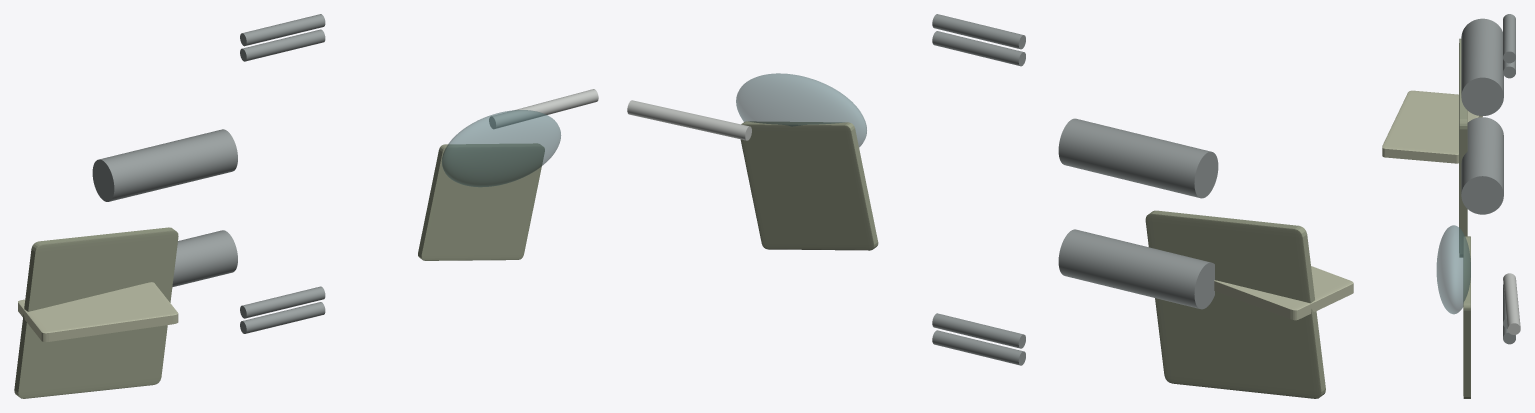
Rendered from v-u25-vanguard-multirole-aircraft-lod2.glb.
3 renders of one model, left to right at view 1: azimuth 30°, elevation 25°; view 2: azimuth 150°, elevation 25°; view 3: azimuth 270°, elevation 25°, orthographic. The views are drawn at different scales.
Parts seen in each view (by area): view 1: combat_tailplane_-1, canard_-1, combat_canopy, combat_engine_1, combat_fin_-1, combat_engine_0, combat_gun_barrel_0, combat_-1_tube_2, combat_1_tube_1, combat_1_tube_2, combat_-1_tube_1; view 2: combat_tailplane_-1, canard_-1, combat_engine_1, combat_engine_0, combat_canopy, combat_fin_-1, combat_gun_barrel_0, combat_-1_tube_1, combat_-1_tube_2, combat_1_tube_1, combat_1_tube_2; view 3: combat_fin_-1, combat_engine_1, combat_engine_0, combat_canopy, canard_-1, combat_tailplane_-1, combat_gun_barrel_0, combat_1_tube_2, combat_1_tube_1, combat_-1_tube_1.
Part boxes in pixels (x1,y1,x2,y2): combat_tailplane_-1: (14,227,178,398); canard_-1: (418,143,544,260); combat_canopy: (442,110,560,187); combat_engine_1: (92,129,237,201); combat_fin_-1: (18,282,178,342); combat_engine_0: (172,230,237,287); combat_gun_barrel_0: (489,89,598,128); combat_-1_tube_2: (240,286,325,318); combat_1_tube_1: (240,29,325,61); combat_1_tube_2: (240,14,325,46); combat_-1_tube_1: (240,302,325,333); combat_tailplane_-1: (1145,210,1325,398); canard_-1: (740,121,878,250); combat_engine_1: (1058,118,1218,198); combat_engine_0: (1058,229,1214,309); combat_canopy: (736,73,866,147); combat_fin_-1: (1214,266,1353,320); combat_gun_barrel_0: (627,100,751,140); combat_-1_tube_1: (932,330,1025,365); combat_-1_tube_2: (932,313,1025,348); combat_1_tube_1: (932,31,1025,66); combat_1_tube_2: (932,14,1025,49); combat_fin_-1: (1382,90,1482,163); combat_engine_1: (1461,18,1503,116); combat_engine_0: (1461,117,1503,214); combat_canopy: (1436,225,1470,314); canard_-1: (1463,236,1470,398); combat_tailplane_-1: (1459,38,1467,257); combat_gun_barrel_0: (1503,273,1520,334); combat_1_tube_2: (1503,14,1515,63); combat_1_tube_1: (1503,59,1515,78); combat_-1_tube_1: (1503,325,1515,344).
Size of what is drawn, in the model's own units: 14.03 by 6.74 by 2.85.
